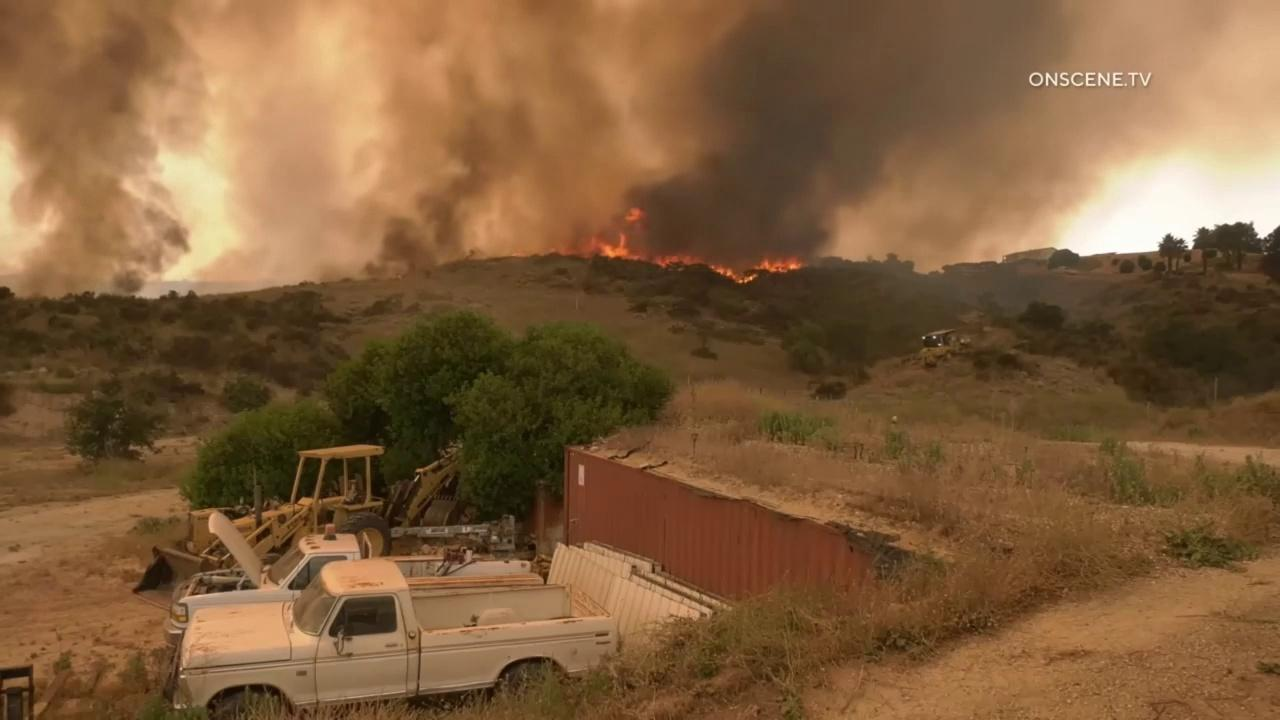fire: (558, 231, 802, 285), (623, 207, 642, 224)
smoke: (0, 0, 1280, 298)
